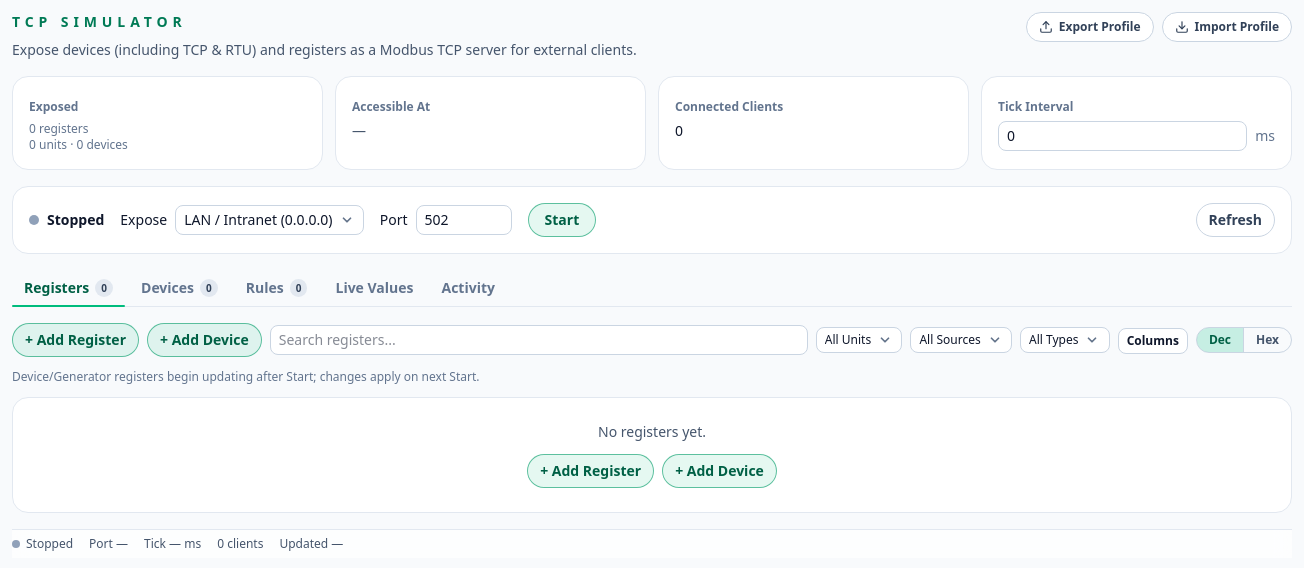
Test: TcpSimulatorPage (tabbed shell) › switches to the Devices tab and shows the device
The width and height of the screenshot is (1304, 568).
Step 1. Click the tab "Devices 0" → (179, 288), box [129,270,230,306]
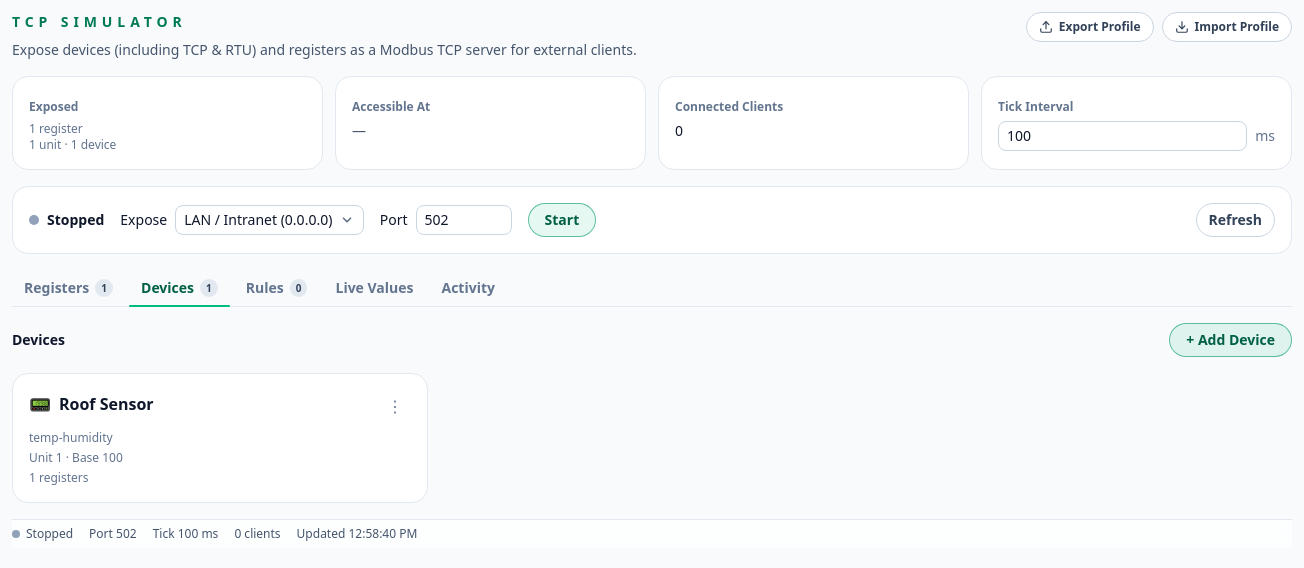
Expected: the text "Roof Sensor" is shown, [59,392,154,416]
